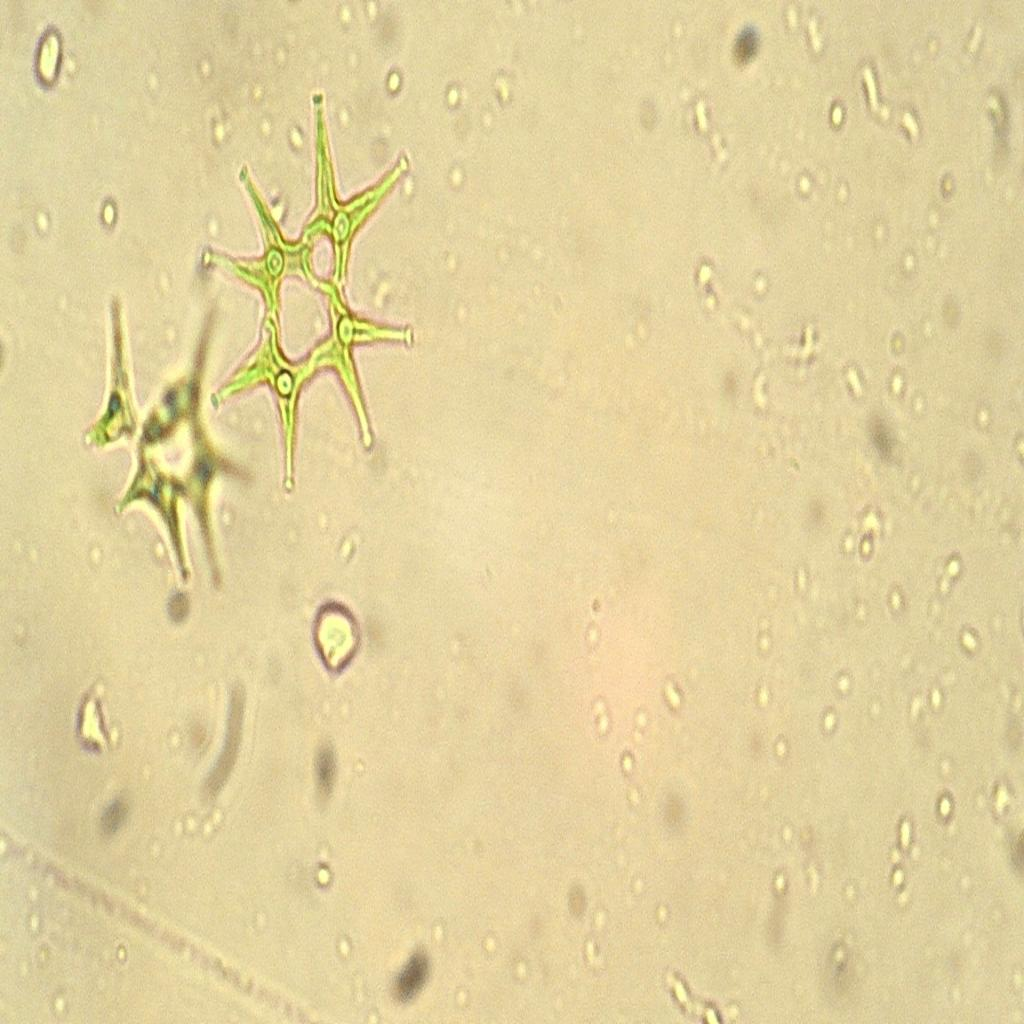Pediastrum_75FO: (191, 82, 429, 520)
